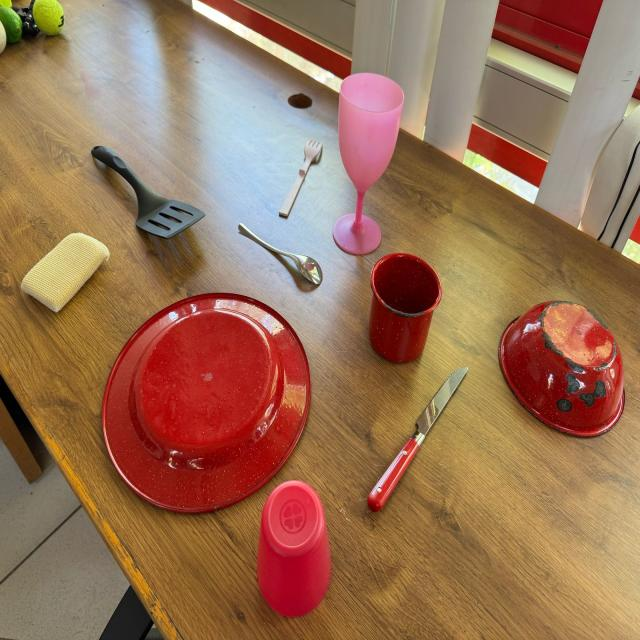cup: (367, 252, 441, 364)
fork: (278, 138, 322, 220)
glass: (256, 479, 330, 616)
knife: (368, 367, 466, 512)
plate: (100, 290, 312, 516)
spatula: (89, 145, 207, 239)
sponge: (19, 232, 110, 312)
spoon: (234, 222, 324, 286)
tazon: (496, 296, 626, 436)
wineglass: (330, 74, 407, 255)
